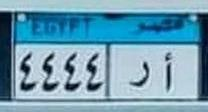4: (84, 51, 102, 92), (63, 51, 81, 92), (18, 52, 36, 92), (42, 50, 59, 92)
alif: (161, 51, 176, 92)
raa: (127, 60, 153, 89)
